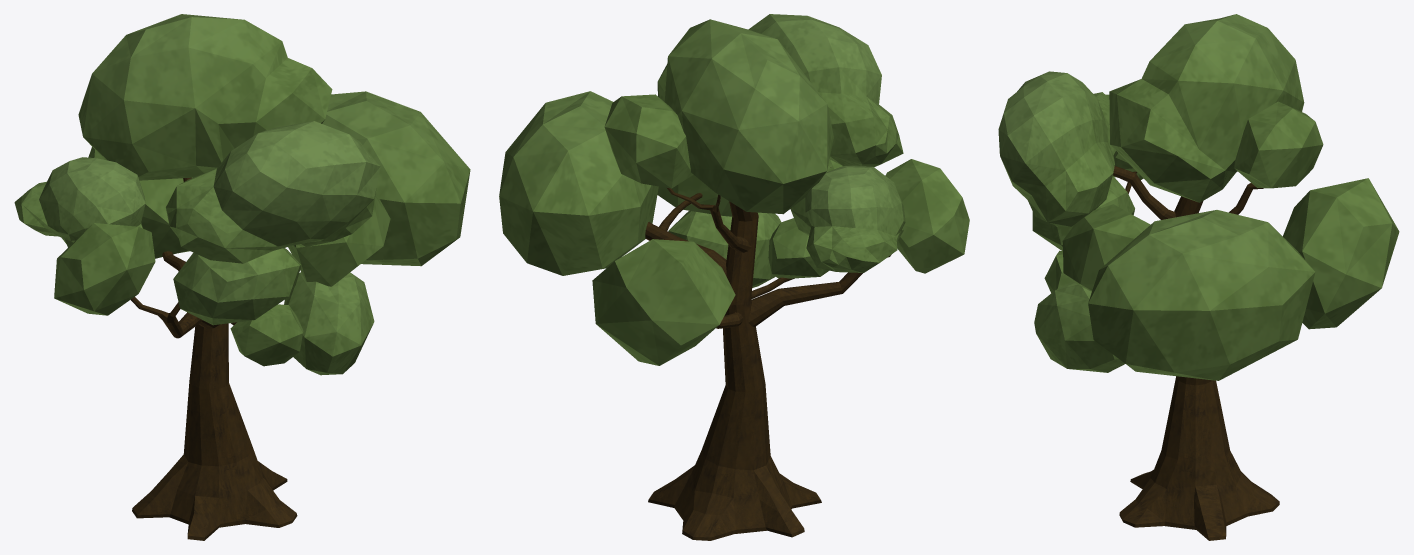
The model's file is Tree_2.fbx.
3 renders of one model, left to right at view 1: azimuth 30°, elevation 25°; view 2: azimuth 150°, elevation 25°; view 3: azimuth 270°, elevation 25°, orthographic. The views are drawn at different scales.
Visible parts, largest first — view 1: GeoSphere069, GeoSphere074, Cylinder057, GeoSphere072, GeoSphere076, GeoSphere077, GeoSphere075, GeoSphere068, GeoSphere073, GeoSphere067, GeoSphere071, Cylinder058; view 2: GeoSphere069, GeoSphere072, Cylinder057, GeoSphere071, GeoSphere074, GeoSphere076, GeoSphere077, GeoSphere070, GeoSphere068, GeoSphere067, Cylinder058, GeoSphere073 (+3 smaller); view 3: GeoSphere072, GeoSphere069, GeoSphere074, Cylinder057, GeoSphere071, GeoSphere070, GeoSphere068, GeoSphere073, GeoSphere075, Cylinder061, GeoSphere067.
Boxes of the visible parts, bbox=[...] form: GeoSphere069: bbox=[78, 14, 332, 180]; GeoSphere074: bbox=[166, 121, 380, 263]; Cylinder057: bbox=[132, 323, 297, 540]; GeoSphere072: bbox=[322, 91, 470, 266]; GeoSphere076: bbox=[14, 157, 145, 247]; GeoSphere077: bbox=[54, 223, 155, 315]; GeoSphere075: bbox=[173, 248, 301, 325]; GeoSphere068: bbox=[284, 272, 374, 375]; GeoSphere073: bbox=[288, 192, 390, 286]; GeoSphere067: bbox=[230, 304, 303, 366]; GeoSphere071: bbox=[88, 147, 192, 258]; Cylinder058: bbox=[131, 297, 219, 338]; GeoSphere069: bbox=[657, 19, 833, 214]; GeoSphere072: bbox=[499, 91, 658, 275]; Cylinder057: bbox=[648, 201, 821, 540]; GeoSphere071: bbox=[592, 239, 735, 365]; GeoSphere074: bbox=[748, 14, 903, 167]; GeoSphere076: bbox=[805, 166, 905, 272]; GeoSphere077: bbox=[885, 159, 969, 273]; GeoSphere070: bbox=[604, 94, 693, 188]; GeoSphere068: bbox=[668, 211, 781, 287]; GeoSphere067: bbox=[768, 218, 829, 278]; Cylinder058: bbox=[748, 167, 891, 326]; GeoSphere073: bbox=[657, 174, 732, 216]; GeoSphere072: bbox=[1088, 210, 1315, 380]; GeoSphere069: bbox=[1109, 14, 1304, 202]; GeoSphere074: bbox=[998, 71, 1117, 226]; Cylinder057: bbox=[1119, 196, 1279, 540]; GeoSphere071: bbox=[1283, 178, 1399, 329]; GeoSphere070: bbox=[1234, 101, 1323, 188]; GeoSphere068: bbox=[1034, 281, 1125, 372]; GeoSphere073: bbox=[1062, 204, 1150, 291]; GeoSphere075: bbox=[1032, 176, 1134, 251]; Cylinder061: bbox=[1113, 166, 1175, 219]; GeoSphere067: bbox=[1044, 250, 1072, 293].
Bounding box in the file's own units: 981 × 1087 × 830.
2 materials, 2 textured.
